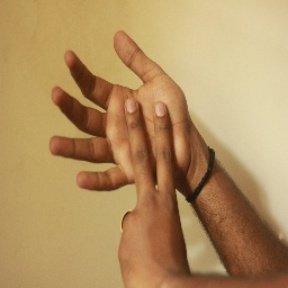N: (38, 25, 210, 242)
